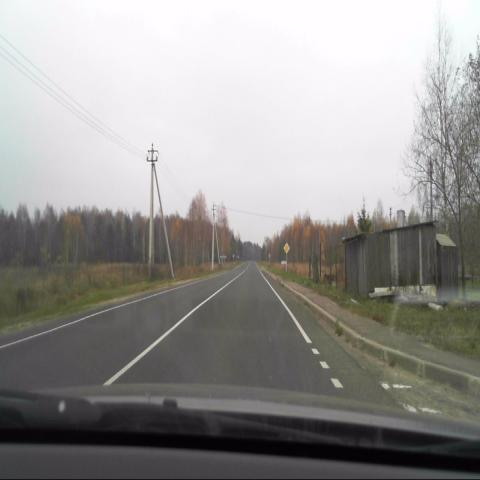2_1: (283, 243, 290, 254)
